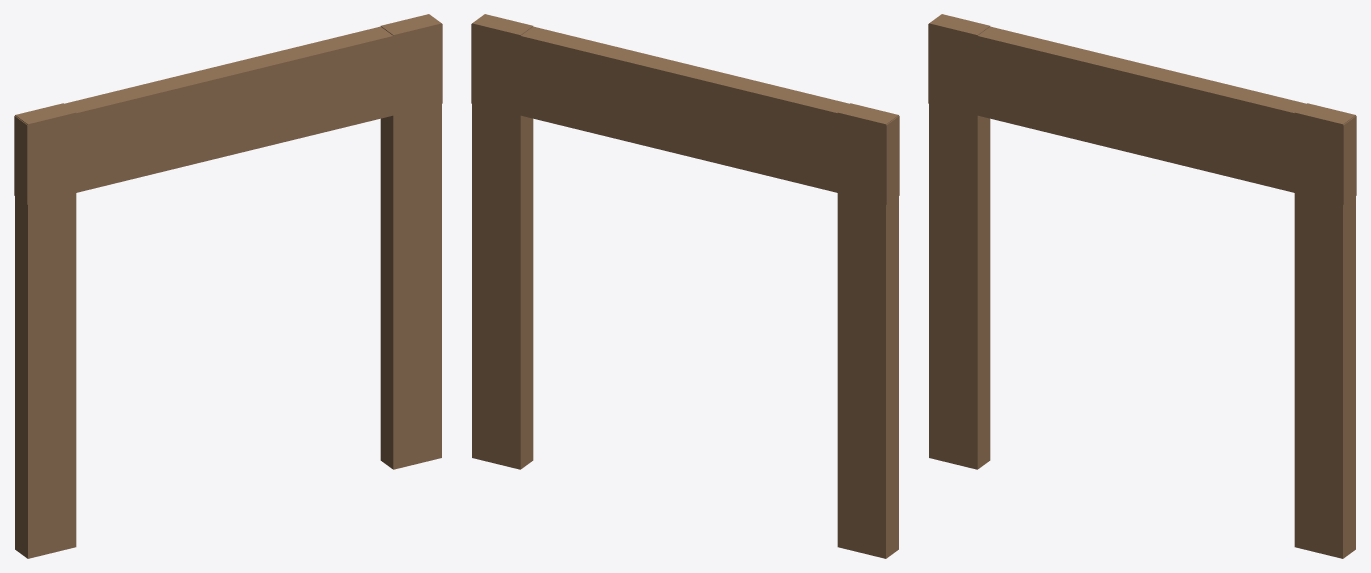
The model's file is BD_doorway.fbx.
3 views of the same model, side by side, from view 1: azimuth 30°, elevation 25°; view 2: azimuth 150°, elevation 25°; view 3: azimuth 330°, elevation 25° (orthographic).
Parts seen in each view (by area): view 1: BD_doorway; view 2: BD_doorway; view 3: BD_doorway.
Boxes of the visible parts, x1,y1,x2,y2 form: BD_doorway: (14, 14, 442, 558); BD_doorway: (471, 14, 899, 558); BD_doorway: (928, 14, 1356, 558).
Size of the model in its own units: 3 by 3 by 0.16.
